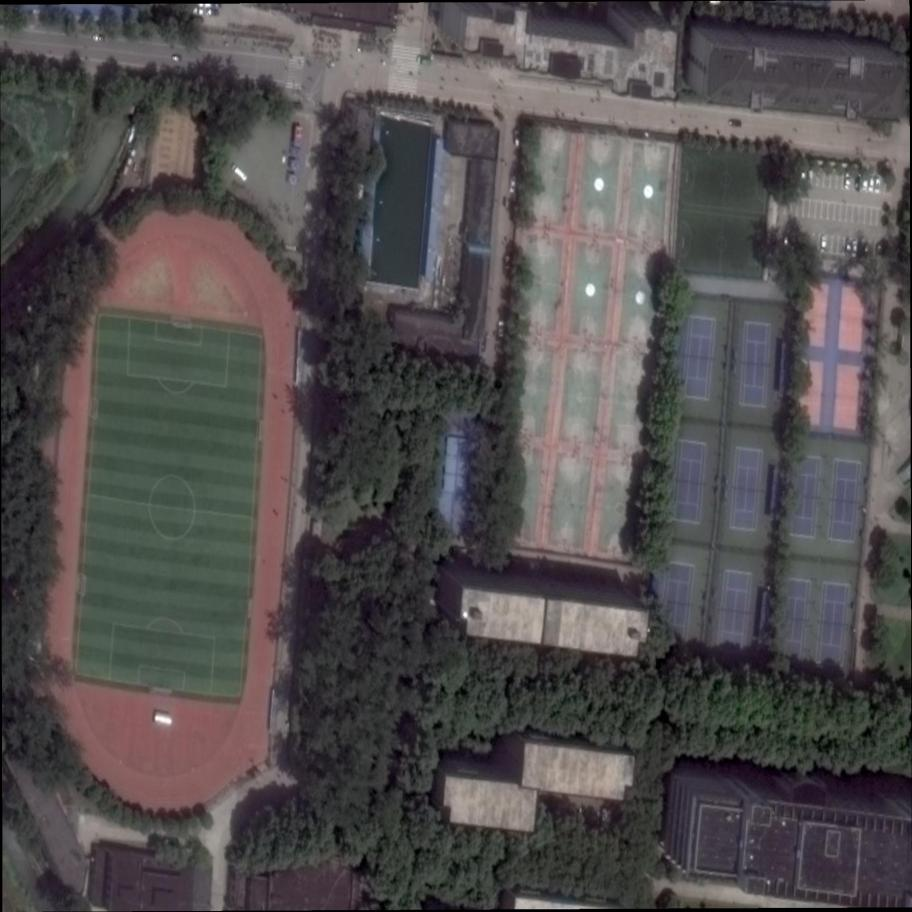small-vehicle: (228, 162, 249, 182), (861, 173, 869, 192), (867, 175, 875, 193), (819, 236, 827, 253), (844, 173, 851, 192), (873, 177, 881, 193), (91, 33, 106, 41), (851, 240, 858, 257), (844, 239, 850, 257), (510, 176, 516, 193), (171, 54, 182, 63), (855, 175, 860, 192), (515, 130, 520, 147)
